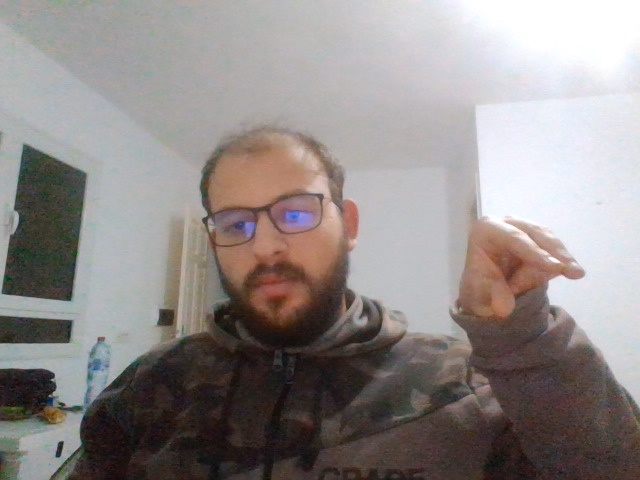No: (463, 220, 584, 317)
